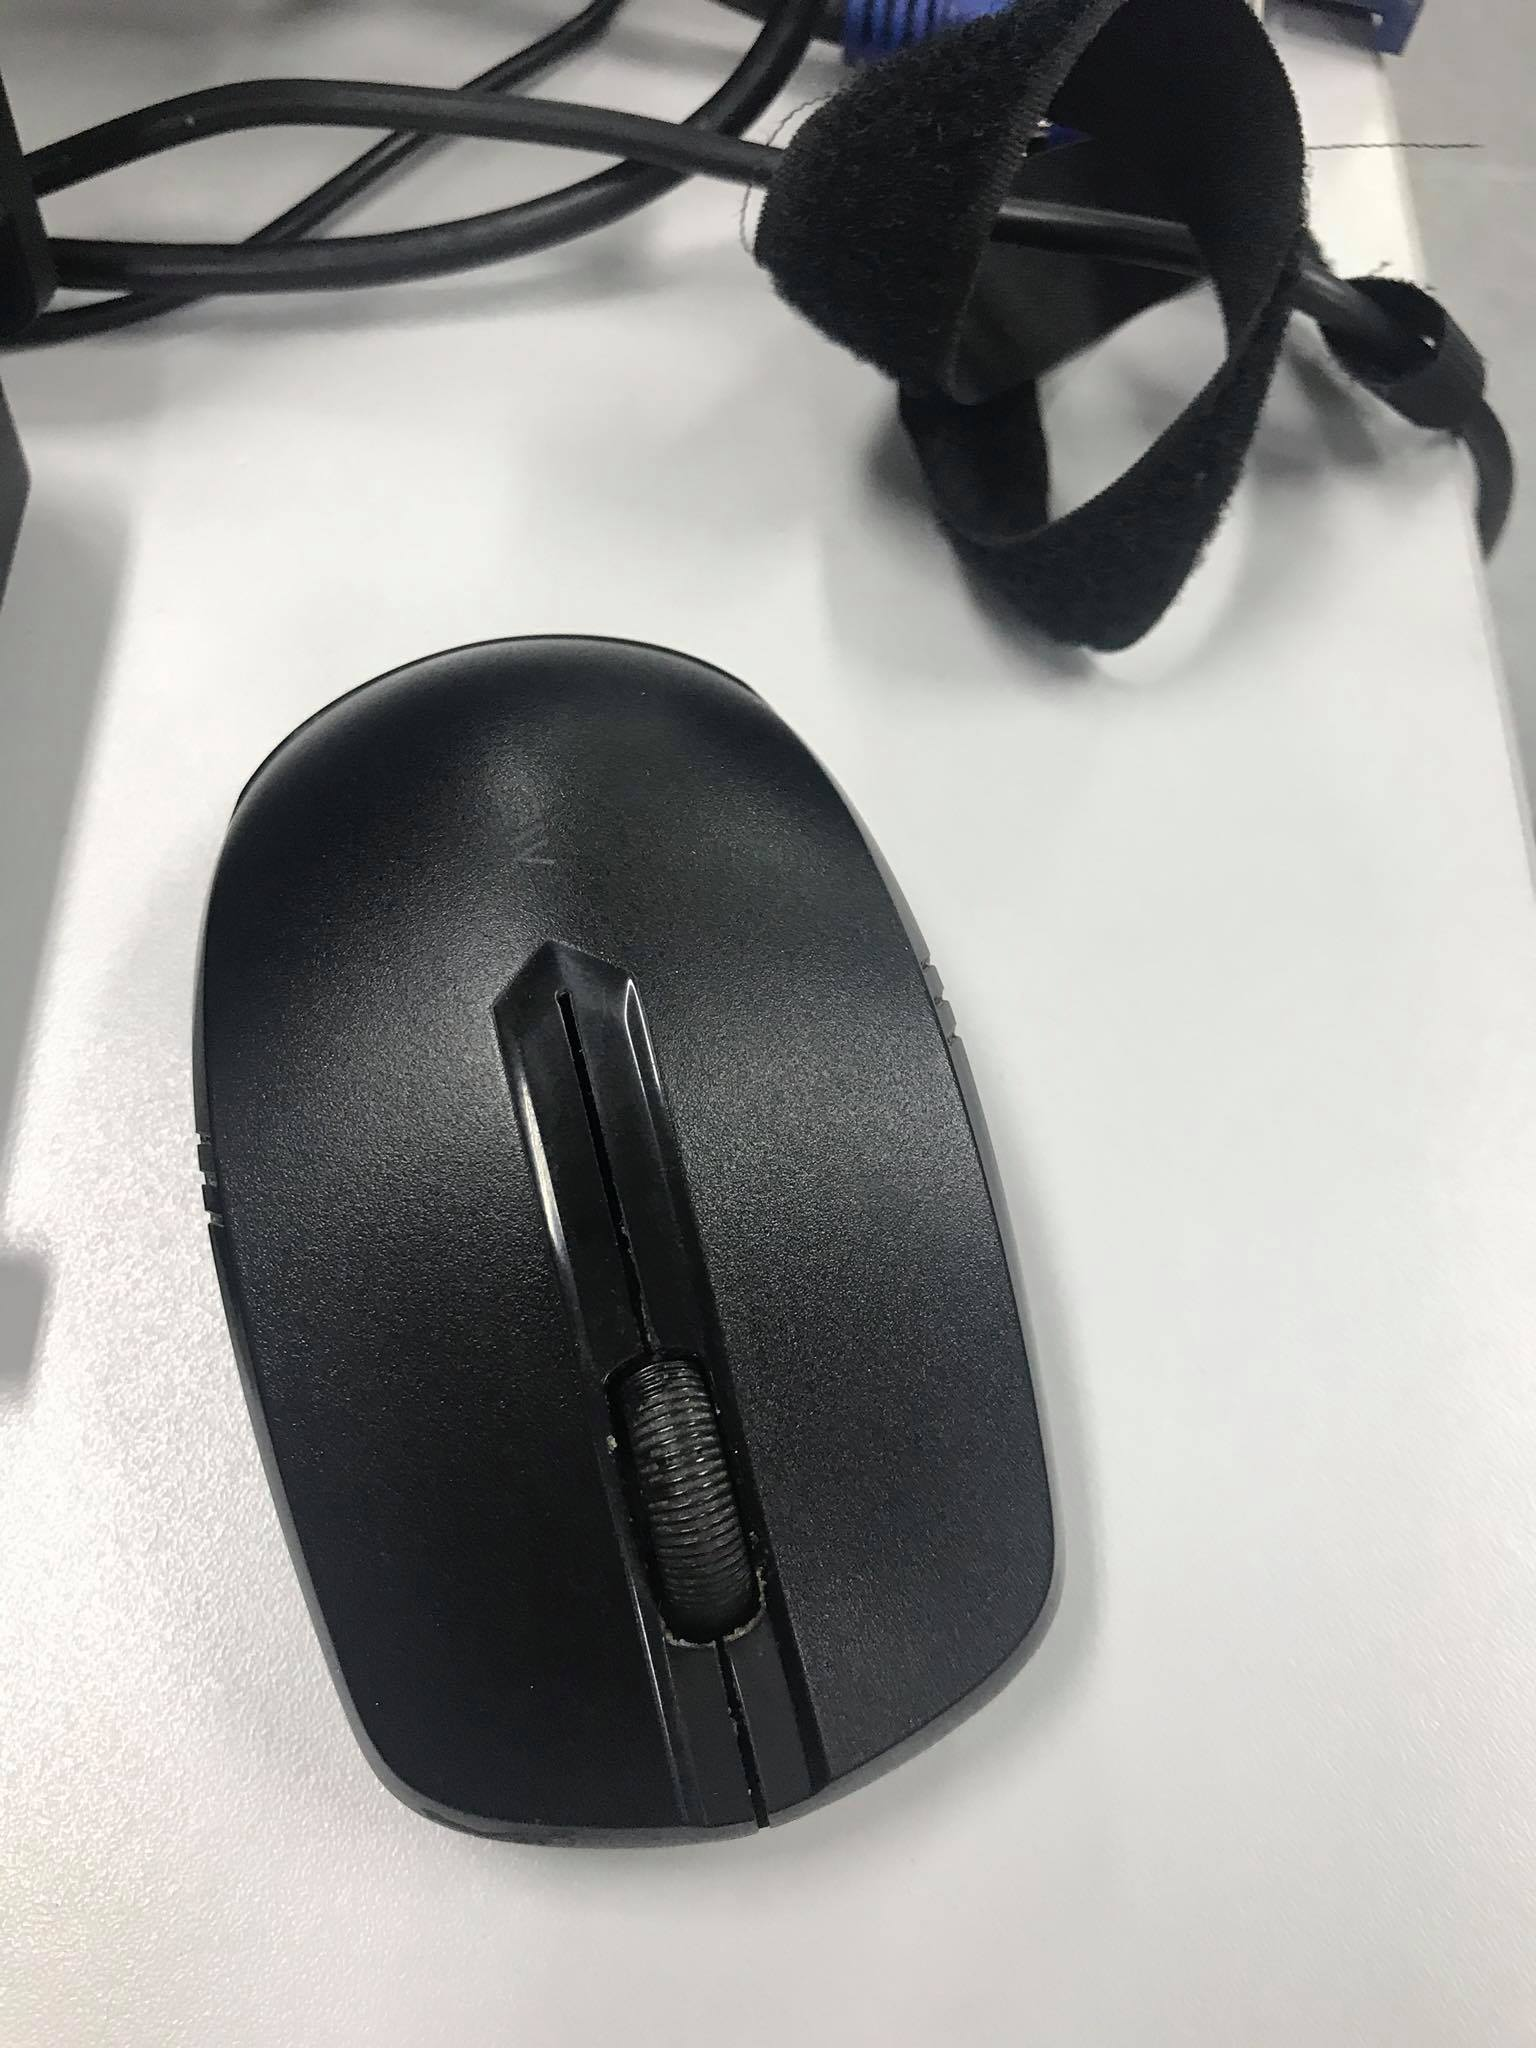mouse: (195, 640, 1083, 1845)
